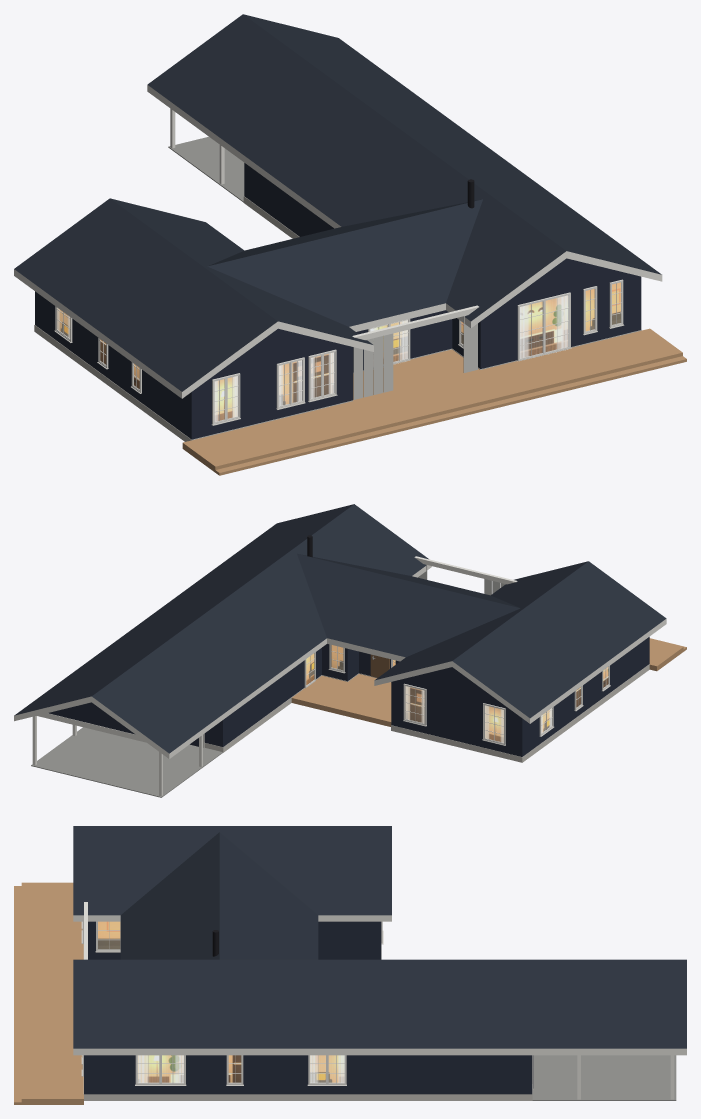
Rendered from teder270_c1_p1_m1.glb.
3 views of the same model, one above another, from view 1: azimuth 30°, elevation 25°; view 2: azimuth 150°, elevation 25°; view 3: azimuth 270°, elevation 25° (orthographic). The views are drawn at different scales.
Visible parts, largest first — view 1: roof, wall, deck, fascia, room, glass, frame, sheer, panel, paving, plinth; view 2: roof, wall, paving, fascia, deck, plinth, room, frame, glass, sheer; view 3: roof, wall, deck, fascia, paving, plinth, room, glass, frame, sheer.
Boxes of the visible parts, <box> form: roof: <box>14,14,661,391</box>; wall: <box>35,163,641,439</box>; deck: <box>182,328,686,475</box>; fascia: <box>14,85,662,398</box>; room: <box>58,282,620,420</box>; glass: <box>57,283,620,421</box>; frame: <box>54,279,624,425</box>; sheer: <box>57,295,568,421</box>; panel: <box>353,316,477,399</box>; paving: <box>168,136,244,202</box>; plinth: <box>34,196,641,441</box>; roof: <box>14,504,666,753</box>; wall: <box>48,637,649,756</box>; paving: <box>31,727,222,797</box>; fascia: <box>14,556,666,796</box>; deck: <box>291,638,686,726</box>; plinth: <box>204,664,649,762</box>; room: <box>306,645,608,741</box>; frame: <box>203,644,610,747</box>; glass: <box>307,645,607,742</box>; sheer: <box>405,686,551,742</box>; roof: <box>73,826,686,1048</box>; wall: <box>84,921,532,1094</box>; deck: <box>14,882,83,1104</box>; fascia: <box>73,902,686,1099</box>; paving: <box>532,1055,676,1100</box>; plinth: <box>83,944,532,1100</box>; room: <box>98,921,343,1082</box>; glass: <box>98,922,343,1082</box>; frame: <box>81,921,533,1089</box>; sheer: <box>137,1055,344,1082</box>.
Size of the model in its own units: 21.93 by 5.66 by 28.07.
Materials: 16 (6 with a texture image).
